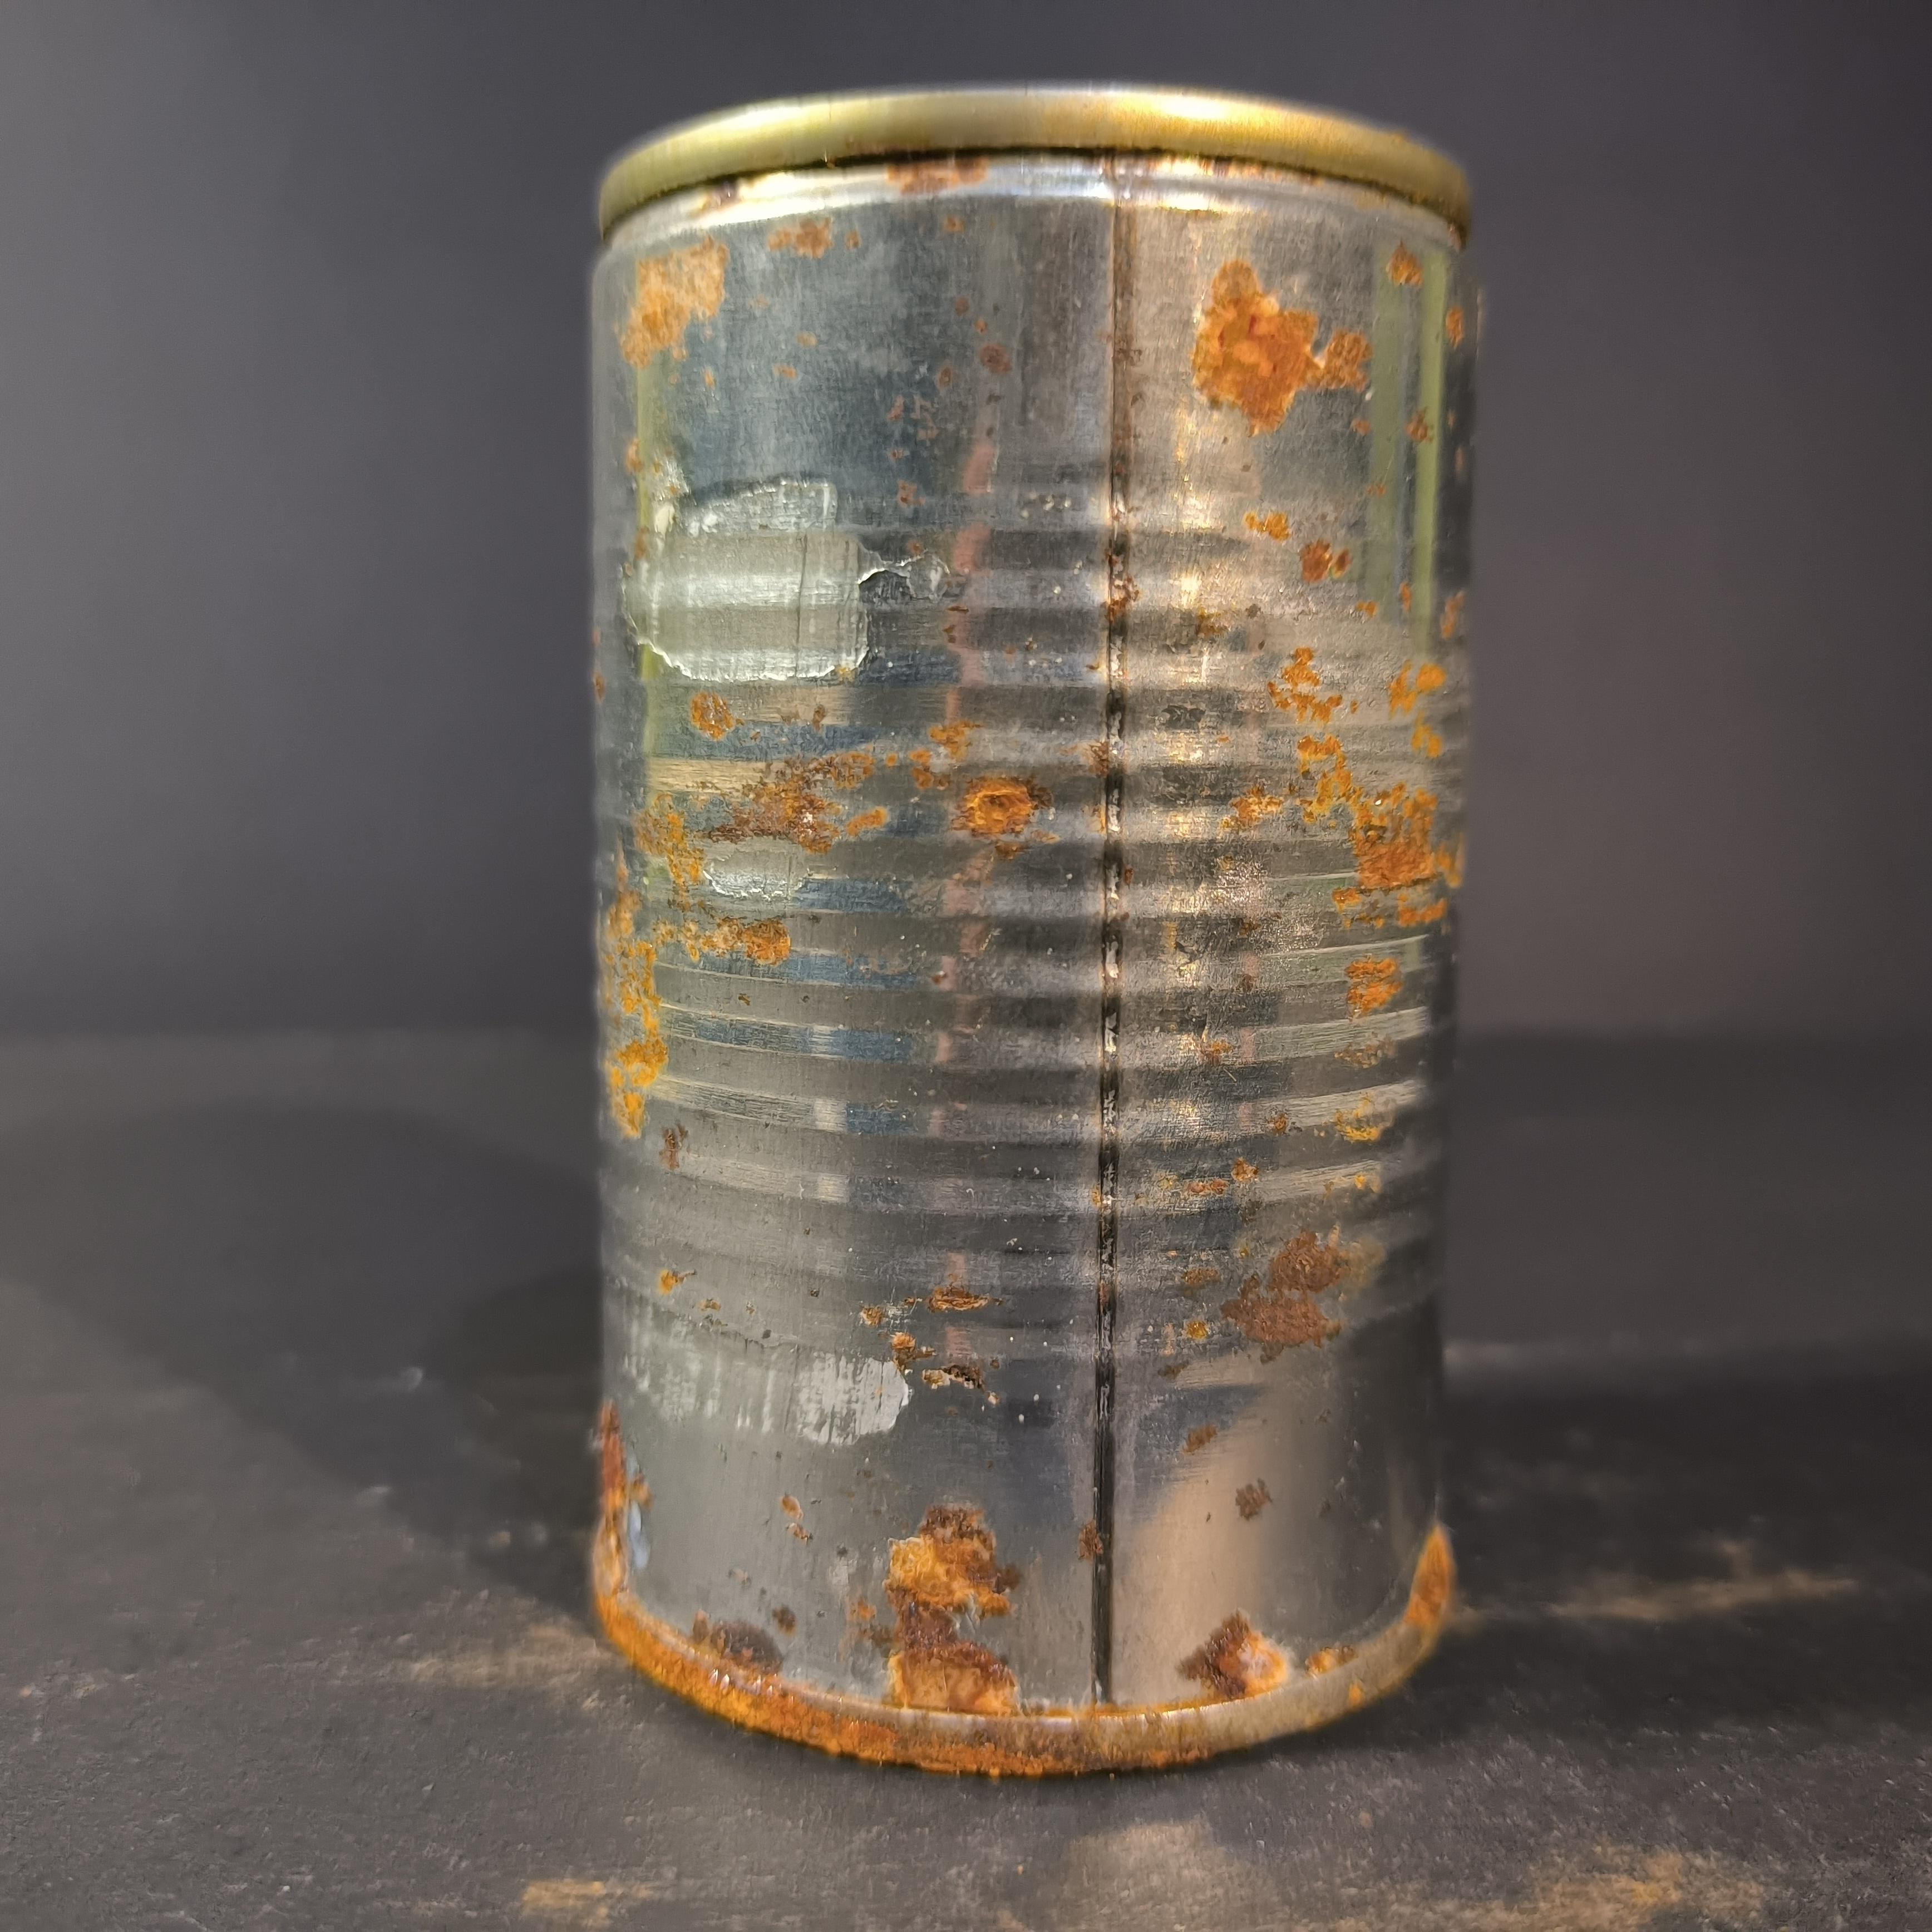Rusted: (550, 58, 1511, 1778)
